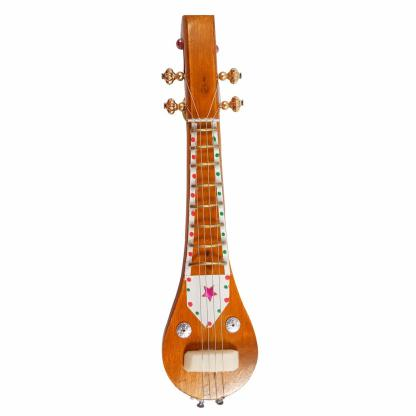Veena: (158, 11, 264, 412)
